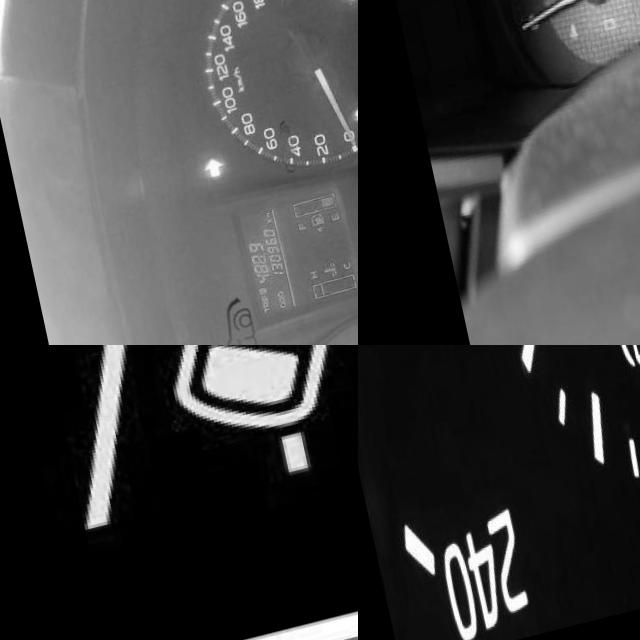Seat Belt: (551, 30, 567, 47)
